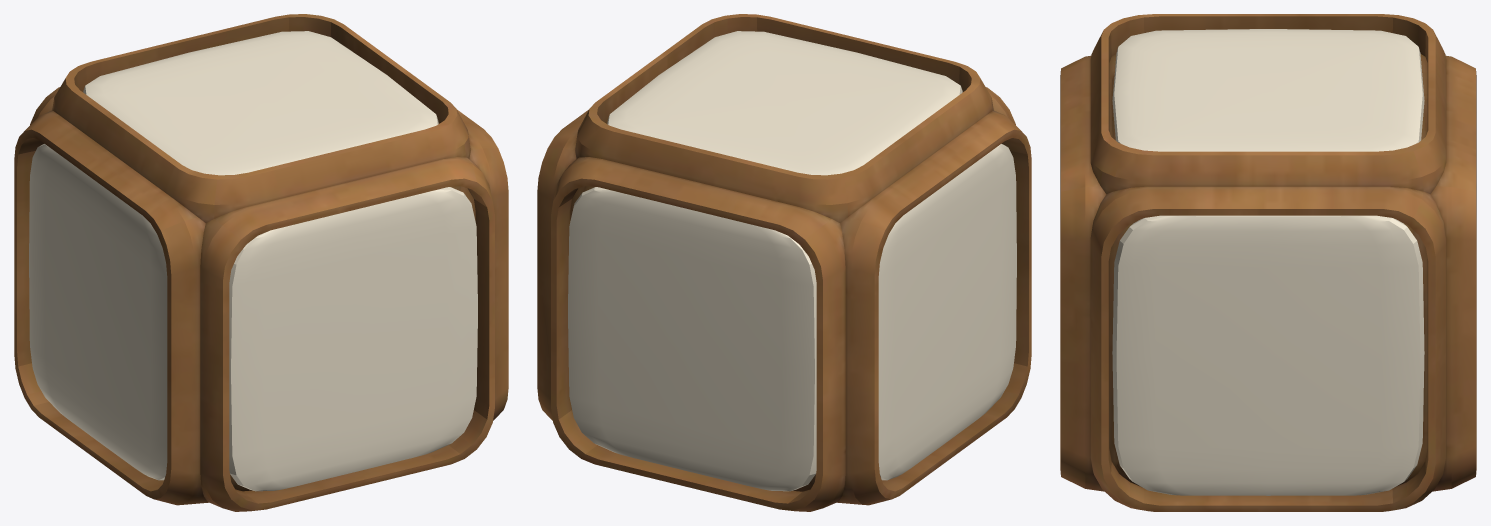
The model's file is foundation_block.glb.
3 renders of one model, left to right at view 1: azimuth 30°, elevation 25°; view 2: azimuth 150°, elevation 25°; view 3: azimuth 270°, elevation 25°, orthographic. The views are drawn at different scales.
Visible parts, largest first — view 1: Cube, Front, Left, Top; view 2: Cube, Back, Left, Top; view 3: Right, Cube, Top.
Part boxes in pixels (left/top/right/bottom): Cube: left=14, top=14, right=508, bottom=511; Front: left=229, top=187, right=477, bottom=491; Left: left=29, top=144, right=167, bottom=480; Top: left=83, top=31, right=438, bottom=175; Cube: left=537, top=14, right=1031, bottom=511; Back: left=568, top=187, right=816, bottom=491; Left: left=878, top=144, right=1016, bottom=480; Top: left=607, top=31, right=962, bottom=175; Right: left=1112, top=215, right=1424, bottom=495; Cube: left=1060, top=14, right=1476, bottom=511; Top: left=1112, top=29, right=1424, bottom=151.
Bounding box in the file's own units: 0.854 × 0.8276 × 0.854.
Materials: 2 (1 with a texture image).
